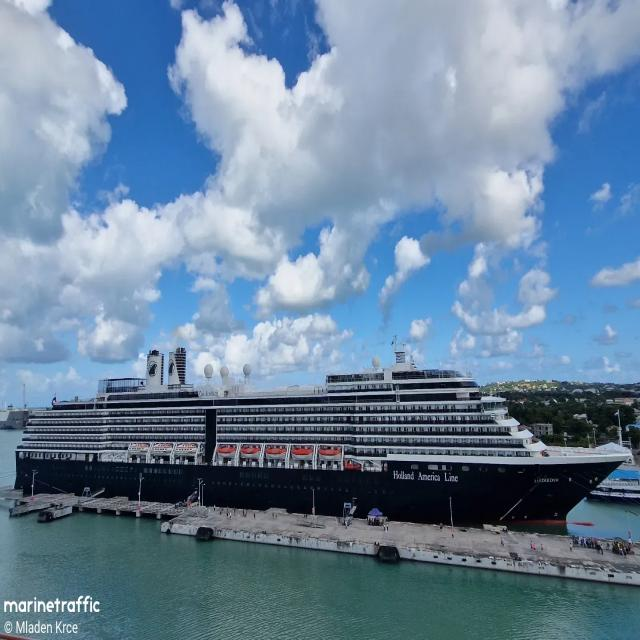Cruise: (16, 347, 629, 523)
